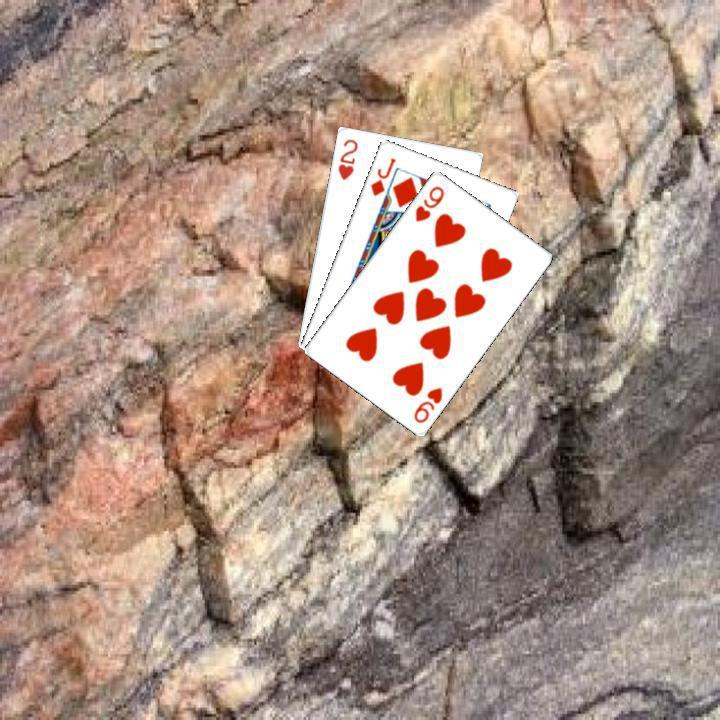2: (333, 134, 360, 182)
9: (410, 181, 446, 223), (409, 382, 444, 425)
J: (366, 153, 398, 198)
